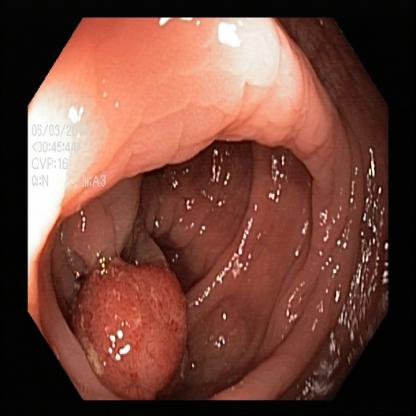Labels: (28, 107, 115, 209)
Polyps: (72, 261, 188, 403)
